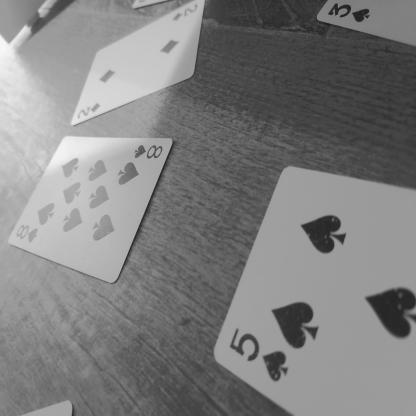2D: (67, 100, 110, 126)
5S: (212, 330, 298, 396)
8S: (134, 136, 168, 166)
